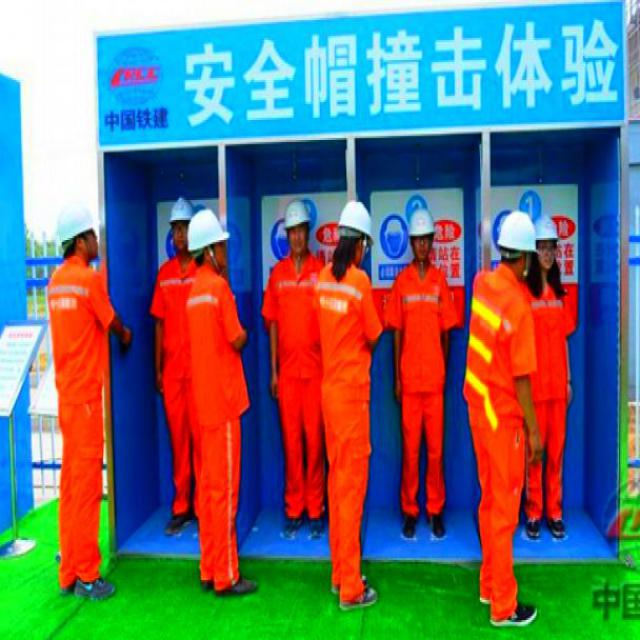helmet: (48, 182, 107, 272), (489, 194, 537, 288), (179, 194, 230, 276), (526, 198, 565, 286), (338, 186, 373, 276), (151, 192, 193, 264), (403, 198, 439, 266), (284, 192, 314, 264)
vest: (31, 268, 118, 420), (178, 280, 250, 432), (468, 266, 530, 434), (387, 264, 455, 398), (314, 269, 372, 400), (263, 262, 321, 389), (526, 284, 568, 400)
